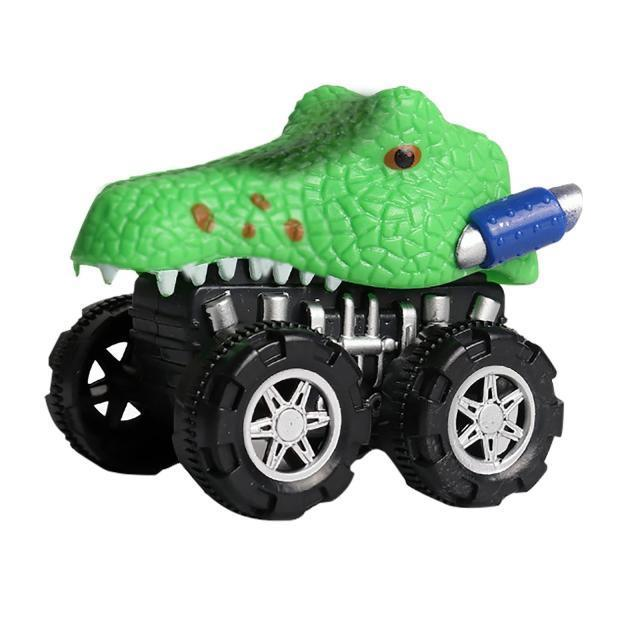hard-toy: (48, 86, 581, 519)
